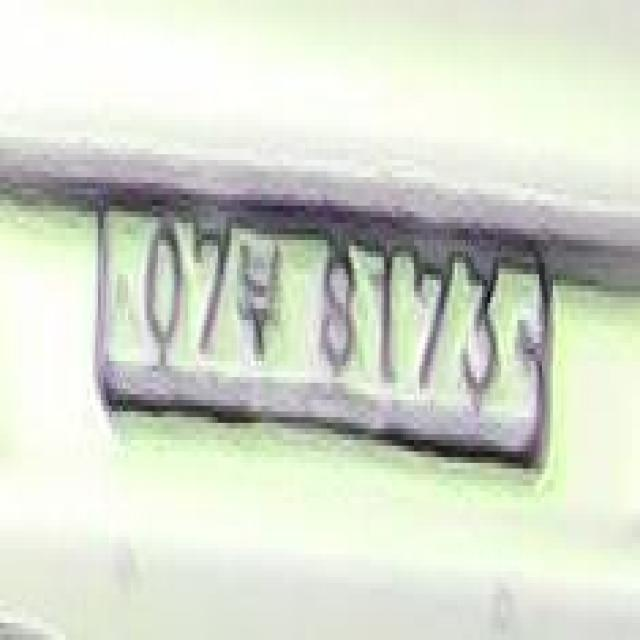illegal_plate: (88, 172, 560, 497)
